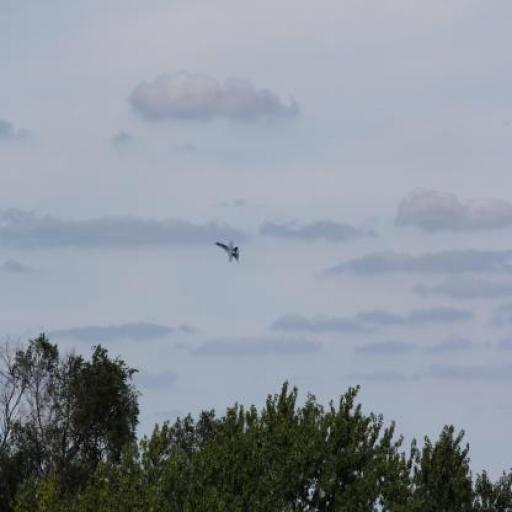aircraft: (207, 235, 250, 267)
